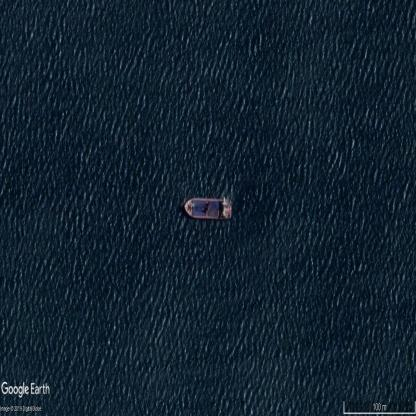ship: (185, 198, 231, 219)
